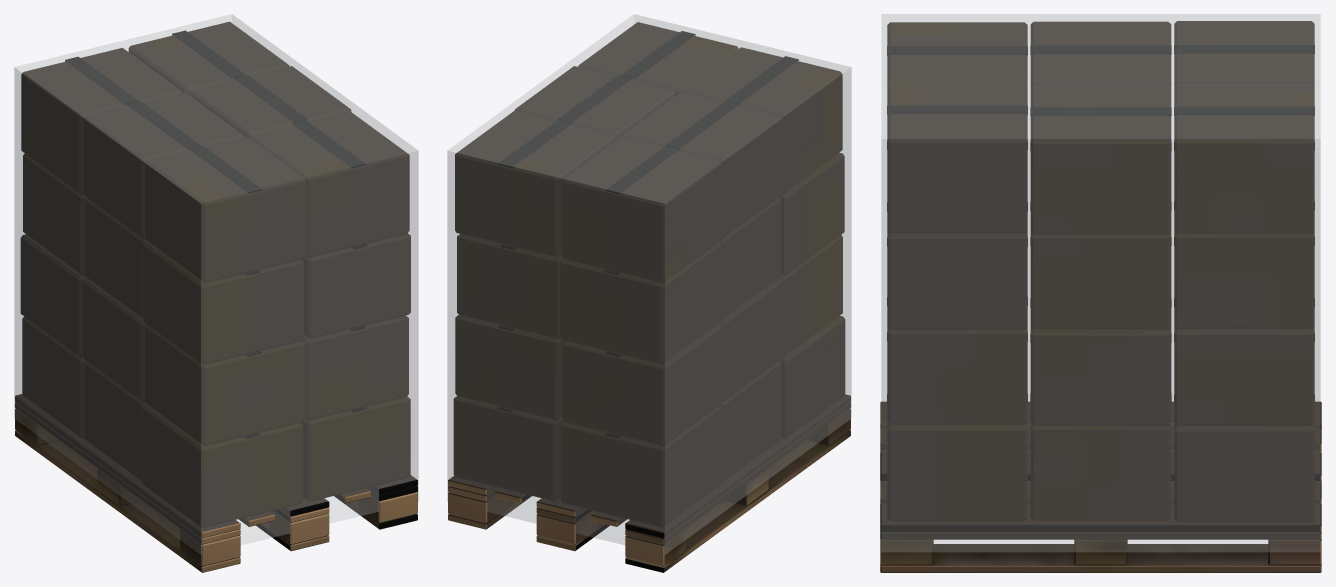
File: wrapped-pallet-load-v1-lod0.glb
3 renders of one model, left to right at view 1: azimuth 30°, elevation 25°; view 2: azimuth 150°, elevation 25°; view 3: azimuth 270°, elevation 25°, orthographic. The views are drawn at different scales.
Visible parts, largest first — view 1: load_1_fittings, load_1_mesh; view 2: load_1_fittings, load_1_mesh; view 3: load_1_fittings, load_1_mesh.
Part boxes in pixels (<box>): load_1_fittings: <box>14,14,418,554</box>; load_1_mesh: <box>15,21,417,572</box>; load_1_fittings: <box>447,14,851,554</box>; load_1_mesh: <box>448,22,850,572</box>; load_1_fittings: <box>881,14,1320,551</box>; load_1_mesh: <box>880,21,1321,572</box>.
Bounding box in the file's own units: 0.804 × 1.3 × 1.2.
2 materials, 1 textured.
